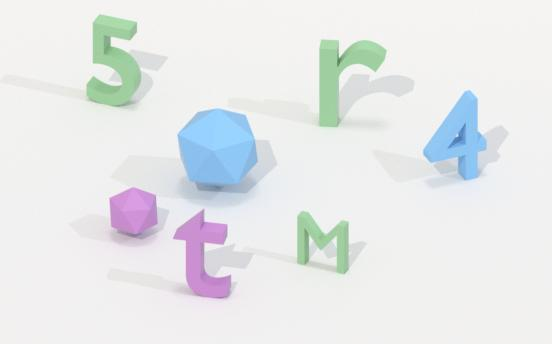4: (423, 87, 489, 181)
5: (88, 9, 143, 107)
M-hoa: (295, 209, 352, 276)
R: (316, 33, 388, 135)
dagiac: (177, 106, 260, 191), (108, 186, 159, 239)
t: (172, 208, 236, 301)
